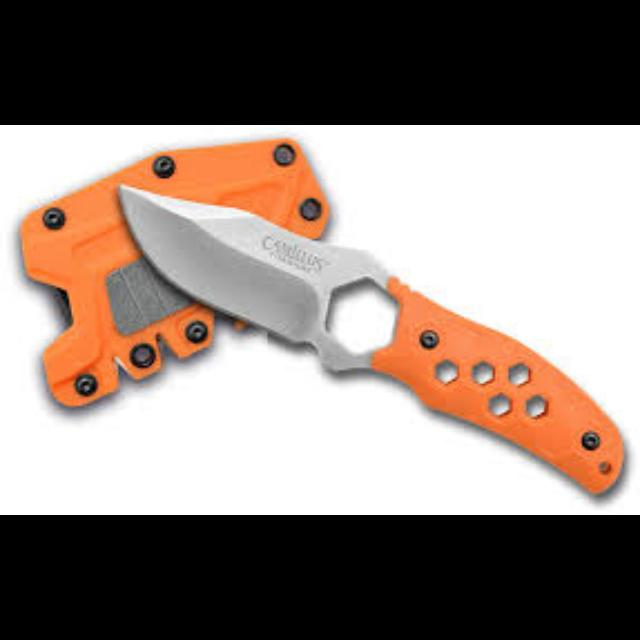knife: (116, 181, 624, 495)
